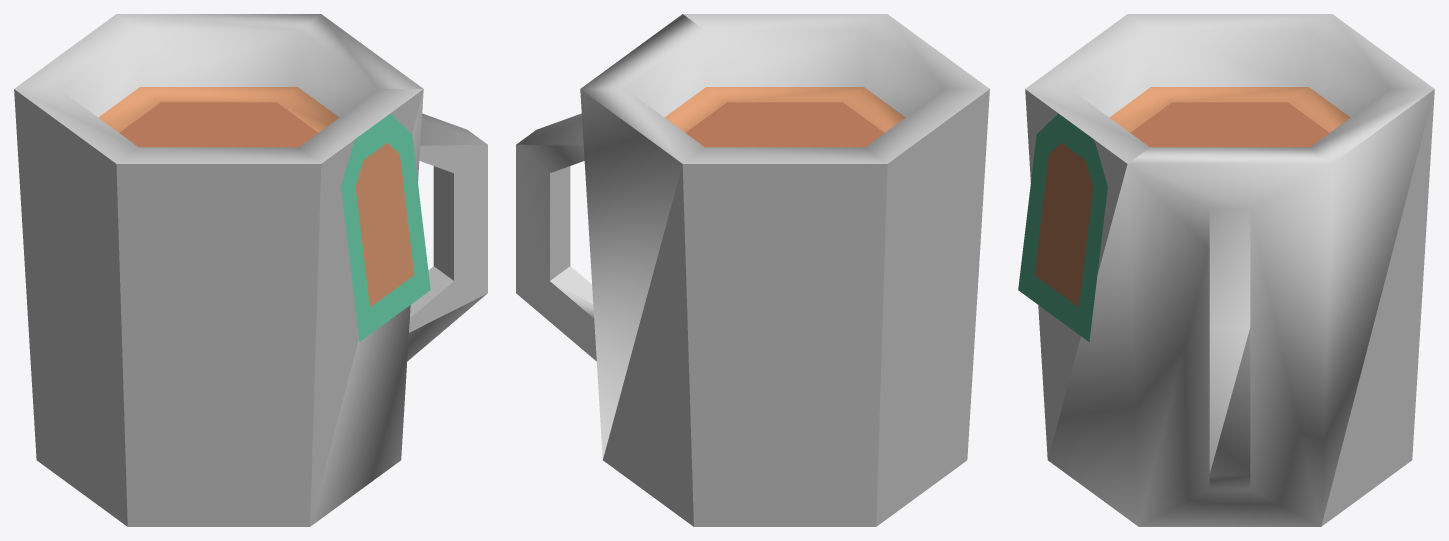
File: cup-tea.glb
3 views of the same model, side by side, from view 1: azimuth 30°, elevation 25°; view 2: azimuth 150°, elevation 25°; view 3: azimuth 270°, elevation 25° (orthographic).
Visible parts, largest first — view 1: cup-tea; view 2: cup-tea; view 3: cup-tea.
Boxes of the visible parts, x1,y1,x2,y2 form: cup-tea: (14, 14, 487, 526); cup-tea: (516, 14, 989, 526); cup-tea: (1018, 14, 1434, 526).
Bounding box in the file's own units: 0.1 × 0.086 × 0.0875.
